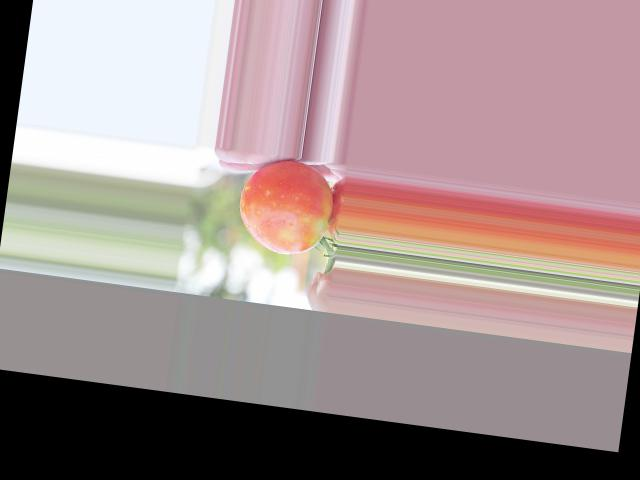tomato: (234, 155, 336, 259)
